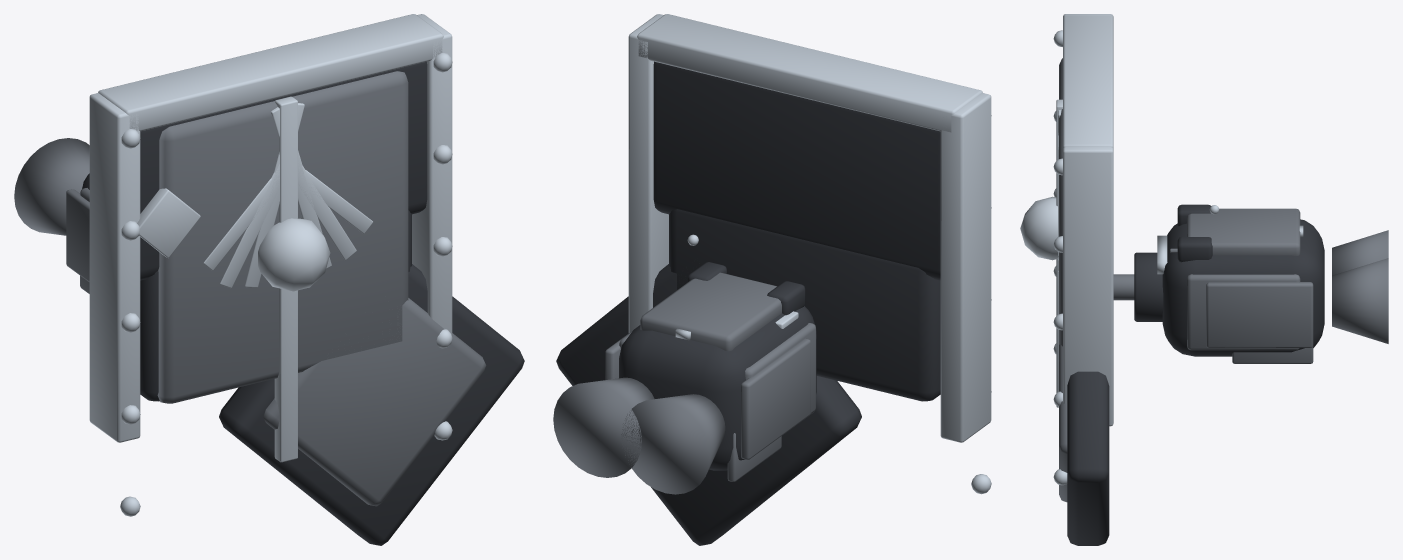
The model's file is weapon_drone_aegis_barrier.glb.
The picture shows the model from 3 angles, left to right: view 1: azimuth 30°, elevation 25°; view 2: azimuth 150°, elevation 25°; view 3: azimuth 270°, elevation 25°; orthographic projection. The views are drawn at different scales.
Visible parts, largest first — view 1: weapon_drone_aegis_barrier; view 2: weapon_drone_aegis_barrier; view 3: weapon_drone_aegis_barrier.
Boxes of the visible parts, x1,y1,x2,y2 form: weapon_drone_aegis_barrier: [14, 14, 524, 545]; weapon_drone_aegis_barrier: [553, 14, 991, 545]; weapon_drone_aegis_barrier: [1020, 14, 1388, 545].
Size of the model in its own units: 1.84 by 2.14 by 1.68.
